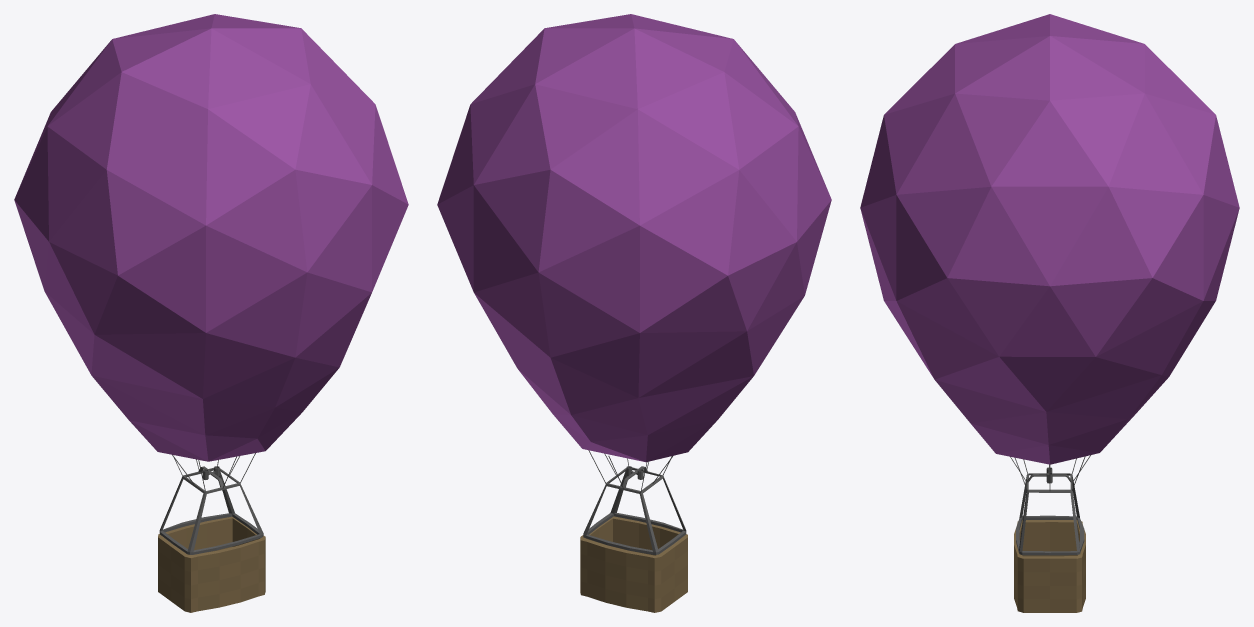
Rendered from hot air balloon.fbx.
3 renders of one model, left to right at view 1: azimuth 30°, elevation 25°; view 2: azimuth 150°, elevation 25°; view 3: azimuth 270°, elevation 25°, orthographic.
Visible parts, largest first — view 1: pSolid1, Basket, Frame; view 2: pSolid1, Basket, Frame; view 3: pSolid1, Basket, Frame.
Part boxes in pixels (<box>): pSolid1: <box>14,14,408,461</box>; Basket: <box>158,516,265,612</box>; Frame: <box>159,453,263,554</box>; pSolid1: <box>437,14,831,462</box>; Basket: <box>580,516,687,612</box>; Frame: <box>583,450,686,554</box>; pSolid1: <box>860,14,1239,464</box>; Basket: <box>1014,520,1085,612</box>; Frame: <box>1010,455,1090,555</box>.
Bounding box in the file's own units: 82.99 × 138 × 84.87.
